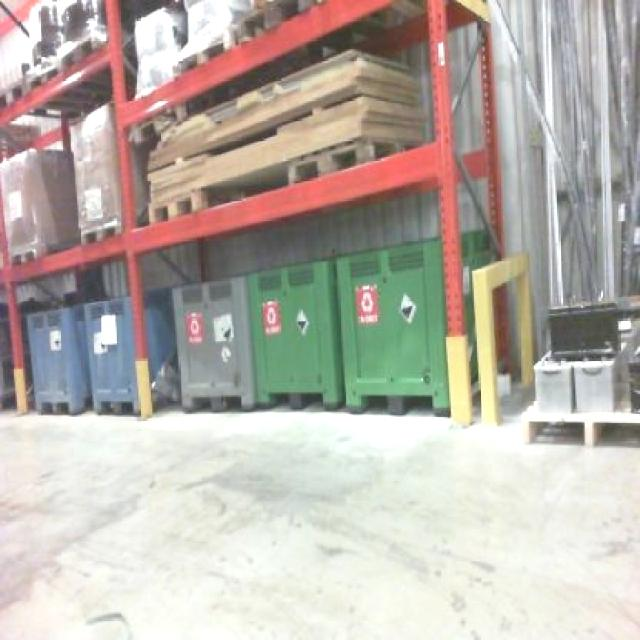floor: (0, 408, 637, 637)
pallets: (335, 238, 446, 409), (246, 258, 340, 405), (171, 275, 252, 408), (0, 148, 75, 260), (26, 305, 86, 411), (83, 295, 134, 409), (145, 308, 171, 371)
